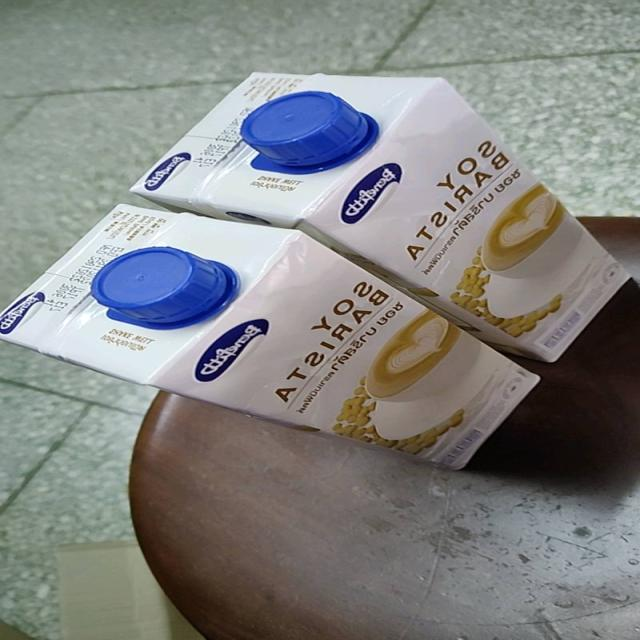cardboard: (0, 72, 614, 475)
